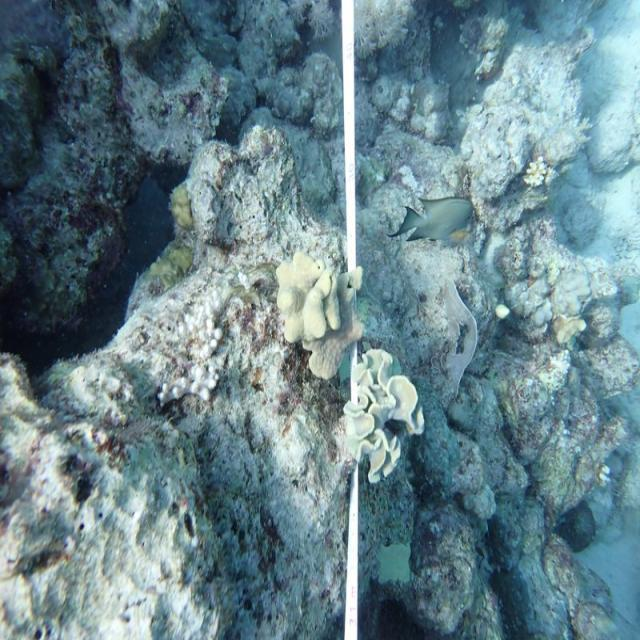Healthy Coral: (327, 341, 432, 505), (265, 243, 360, 381)
